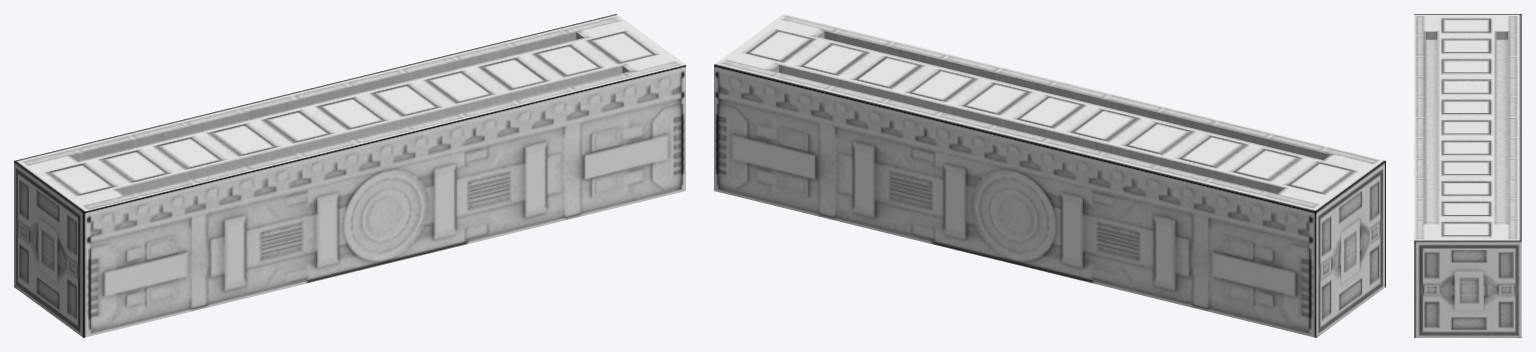
File: Platform3.fbx
The picture shows the model from 3 angles, left to right: view 1: azimuth 30°, elevation 25°; view 2: azimuth 150°, elevation 25°; view 3: azimuth 270°, elevation 25°; orthographic projection. The views are drawn at different scales.
Parts seen in each view (by area): view 1: Platform12; view 2: Platform12; view 3: Platform12.
Boxes of the visible parts, x1,y1,x2,y2 form: Platform12: (14, 14, 685, 337); Platform12: (714, 14, 1385, 337); Platform12: (1414, 14, 1521, 337).
Size of the model in its own units: 5 by 1 by 1.
